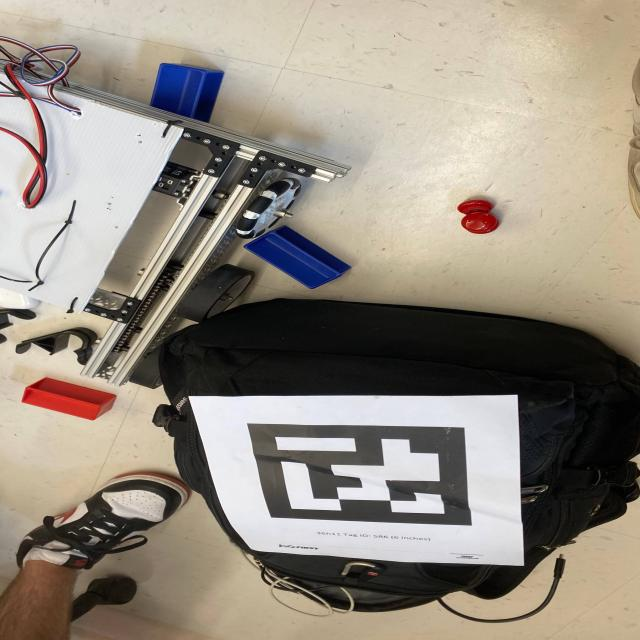blue-specimen: (244, 226, 350, 289), (150, 63, 207, 118)
red-specimen: (21, 377, 116, 420)
